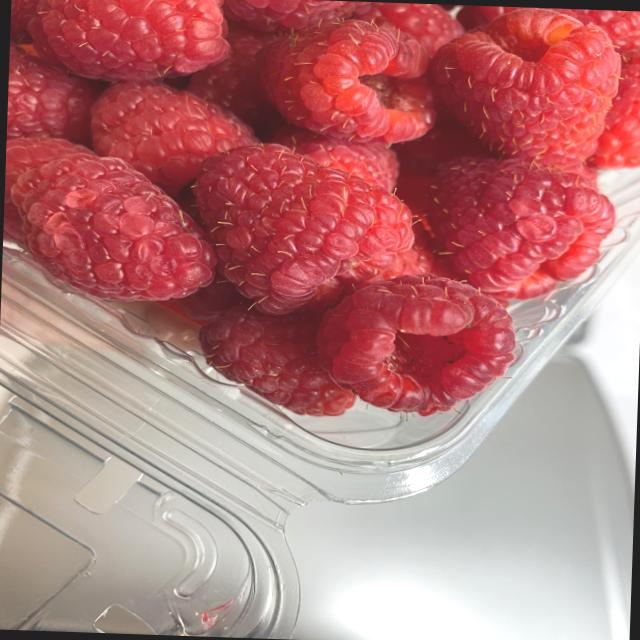raspberries: (23, 0, 640, 419)
